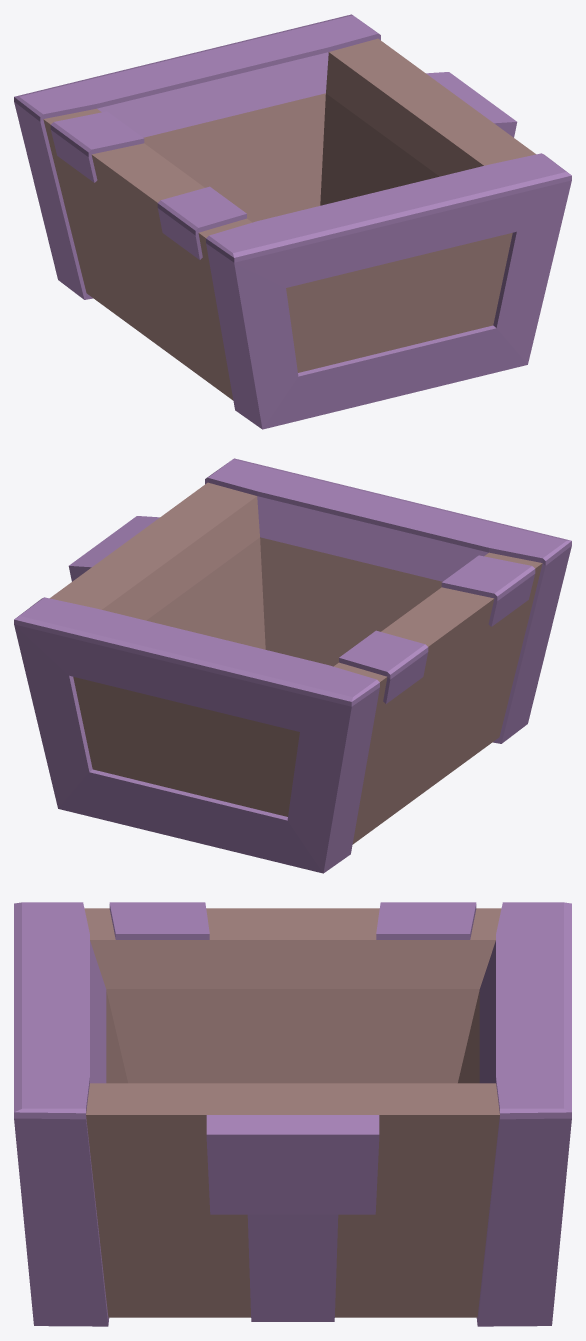
The model's file is Chiringuito_V2.fbx.
3 views of the same model, one above another, from view 1: azimuth 30°, elevation 25°; view 2: azimuth 150°, elevation 25°; view 3: azimuth 270°, elevation 25° (orthographic). The views are drawn at different scales.
Visible parts, largest first — view 1: Box005; view 2: Box005; view 3: Box005.
Boxes of the visible parts, x1,y1,x2,y2 form: Box005: (14, 14, 571, 429); Box005: (14, 458, 571, 873); Box005: (14, 902, 571, 1326).
Size of the model in its own units: 12.45 by 6.23 by 13.19.
